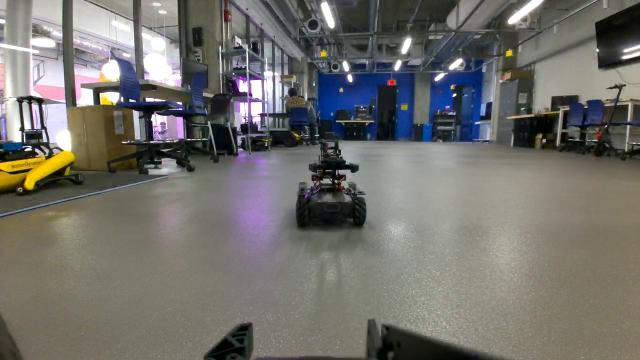robot: (292, 128, 372, 232)
